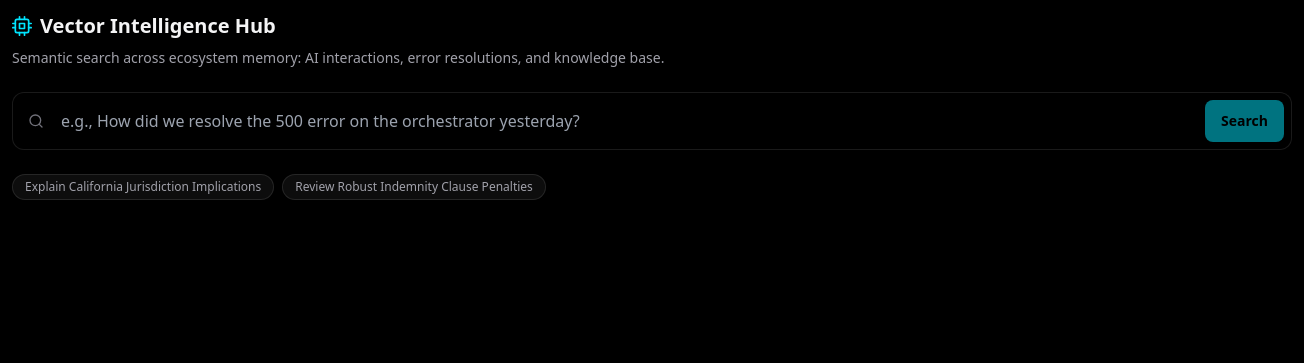
Test: IntelligenceHub component › shows empty results message when no matches found
In the field with placeholder "e.g., How did we resolve": [652, 121] box [12, 92, 1292, 150], type "unmatched query"
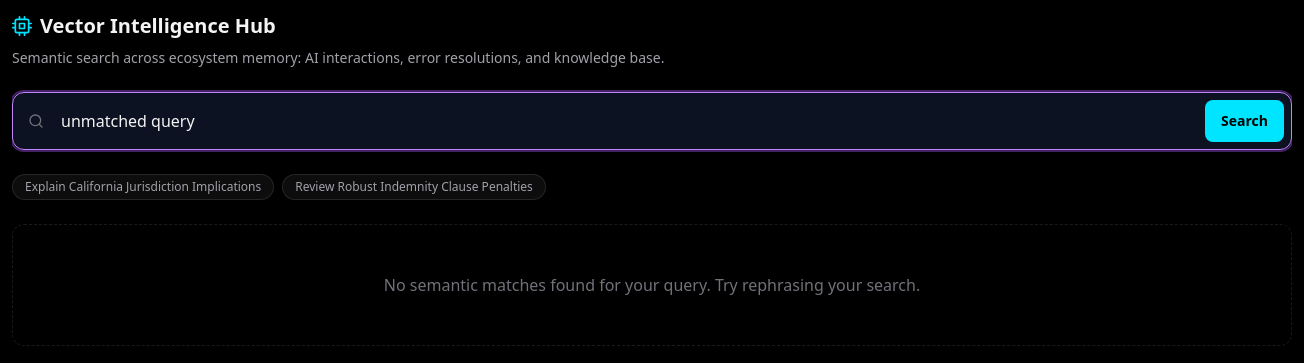
Check: the text "No semantic matches found for your query" is shown, box [384, 274, 920, 296]
